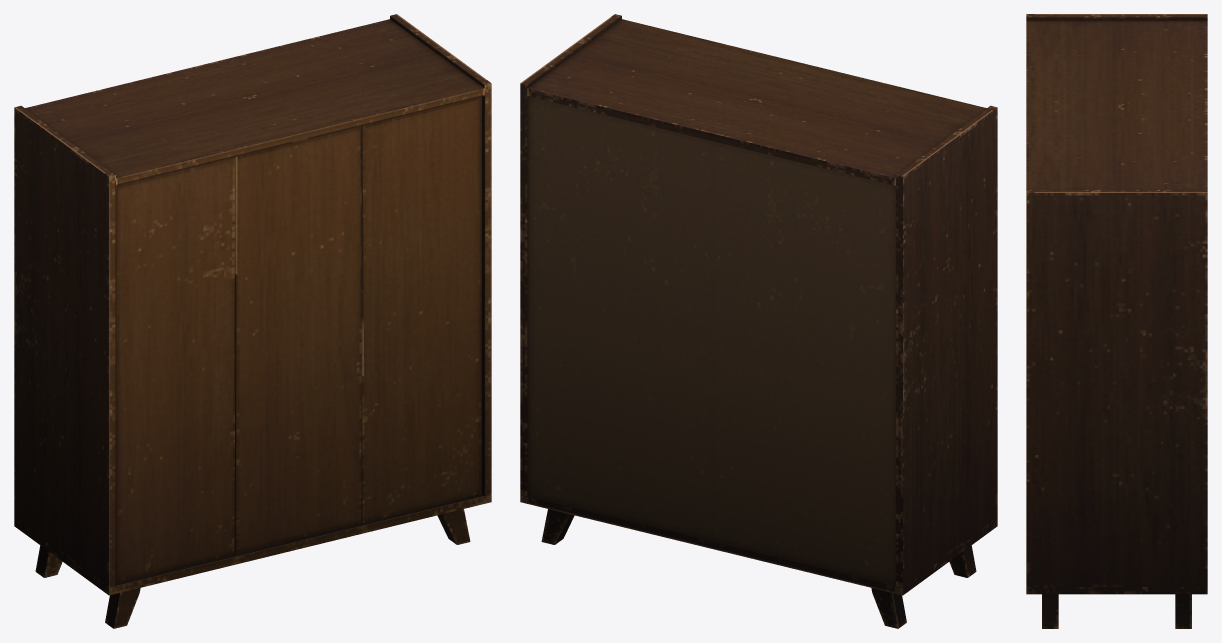
The model's file is closet_mesh_01.fbx.
3 renders of one model, left to right at view 1: azimuth 30°, elevation 25°; view 2: azimuth 150°, elevation 25°; view 3: azimuth 270°, elevation 25°, orthographic. The views are drawn at different scales.
Parts seen in each view (by area): view 1: closet_main, polySurface1003, polySurface1005, polySurface1004; view 2: closet_main; view 3: closet_main.
Boxes of the visible parts, <box> form: closet_main: <box>14,14,491,628</box>; polySurface1003: <box>235,126,361,554</box>; polySurface1005: <box>361,96,481,523</box>; polySurface1004: <box>116,157,234,583</box>; closet_main: <box>520,14,997,628</box>; closet_main: <box>1026,14,1207,628</box>.
Bounding box in the file's own units: 140 × 161 × 60.
1 material, 1 textured.
